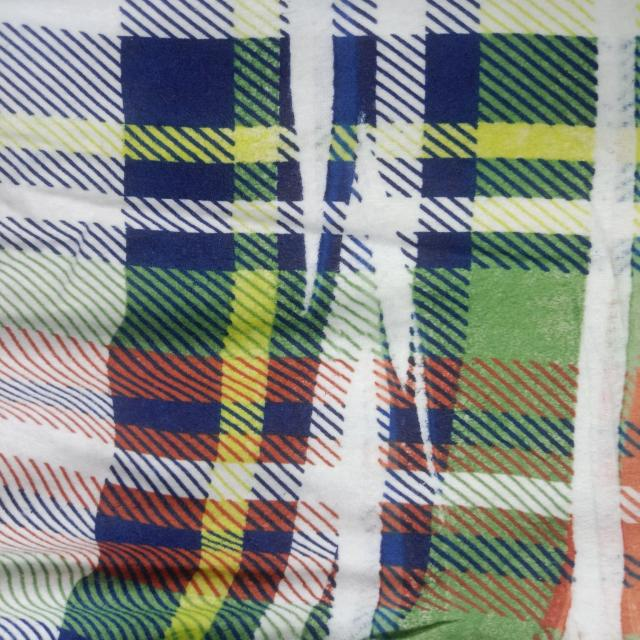selvet: (559, 53, 640, 637), (284, 0, 340, 317), (356, 117, 413, 375), (329, 379, 383, 640), (408, 310, 450, 480)
